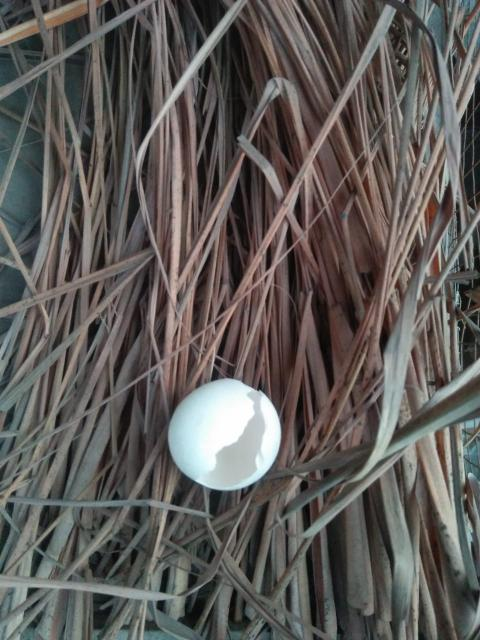Roto: (166, 377, 282, 491)
